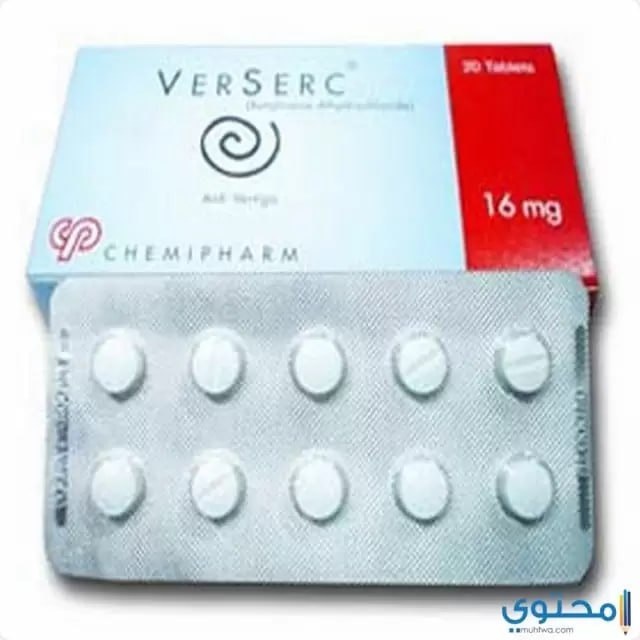Medicine: (27, 32, 605, 308)
